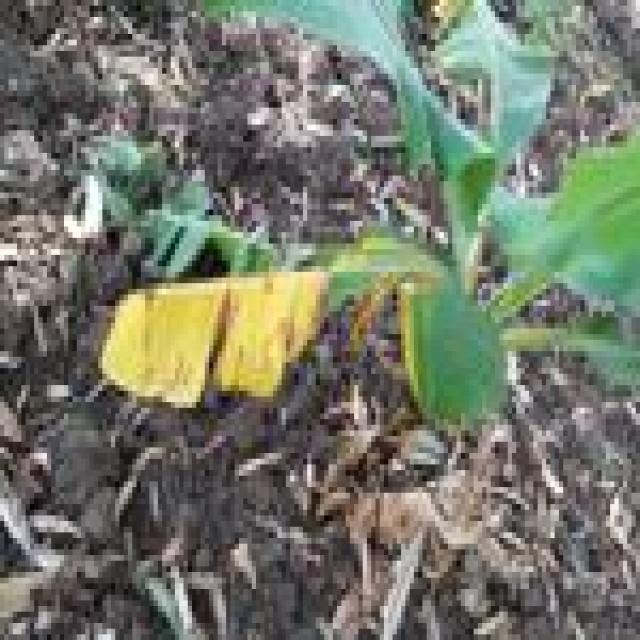Early_rust: (51, 233, 459, 442)
